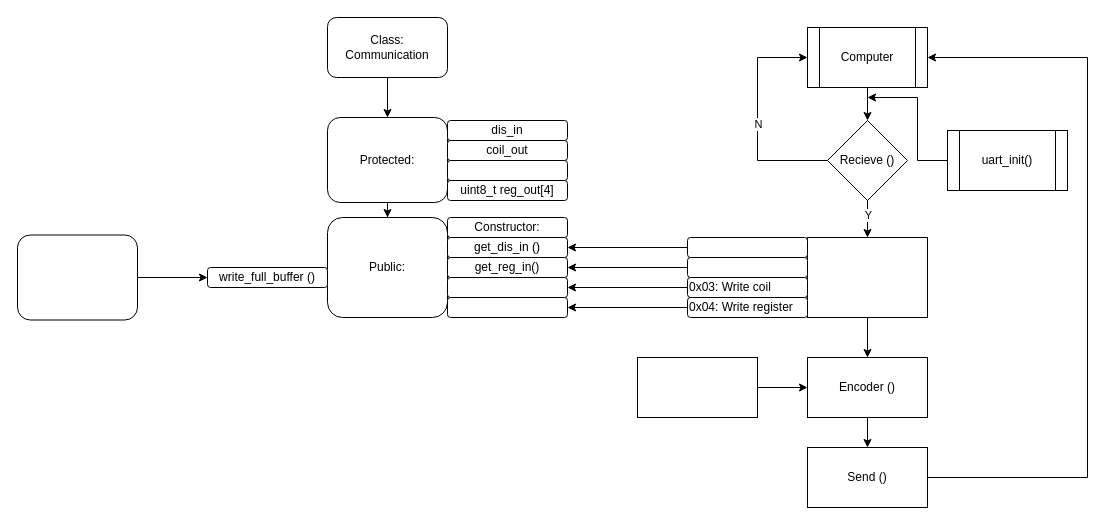
The diagram is 1113 pixels wide and 525 high, and some of its shapes have lost their labels. The centre of each missing label's shape, as x and y in pixels:
"0x01: Read Input" goes at point 747,247.
"0x02: Read Register" goes at point 747,267.
"CRC8_cal ()" goes at point 697,387.
"Decorder ()" goes at point 867,277.
"GPIO" goes at point 77,277.
"uint8_t reg_in[4]" goes at point 507,170.
"write_coil_out ()" goes at point 507,287.
"write_coil_out()" goes at point 507,307.
